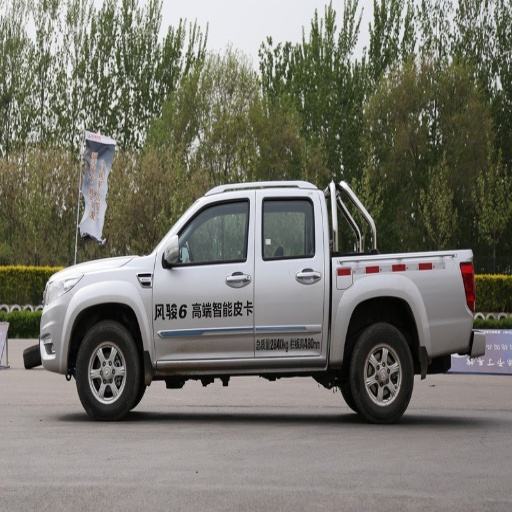back_left_door: (257, 189, 325, 354)
front_left_door: (152, 193, 255, 359)
trunk: (326, 257, 471, 360)
